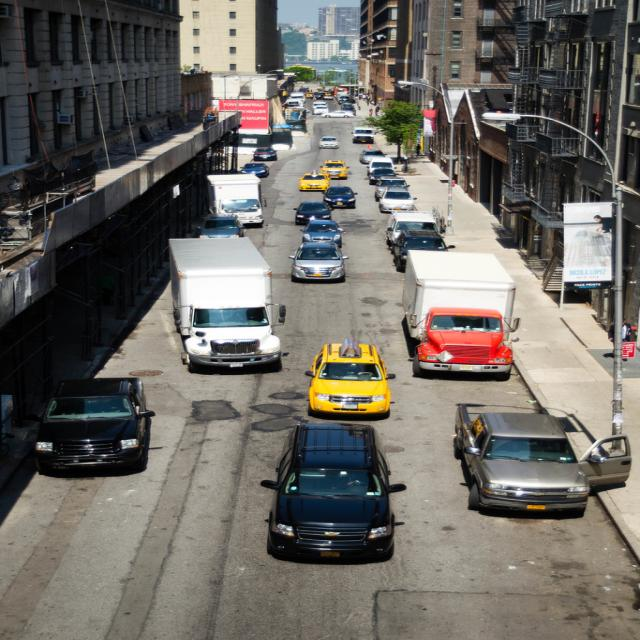car: (265, 427, 408, 562), (453, 404, 630, 507), (32, 380, 140, 472), (310, 345, 397, 409)
